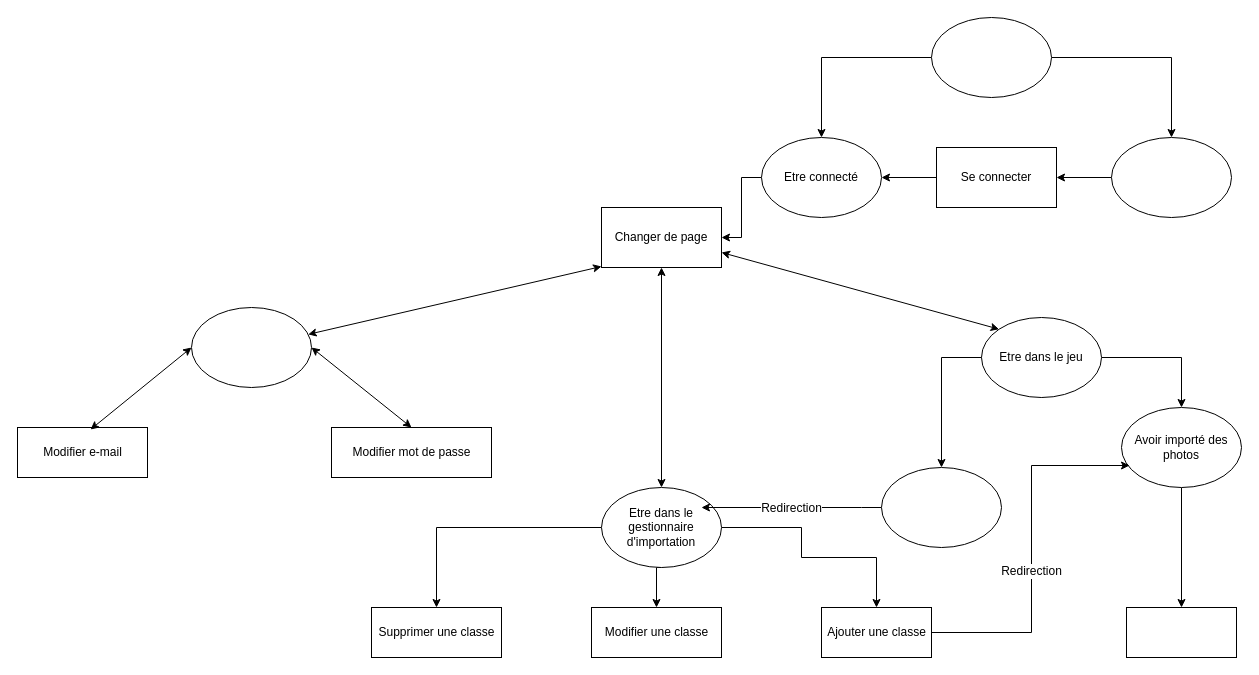
The diagram is 1259 pixels wide and 675 high, and some of its shapes have lost their labels. Here are the shapes that lost their labels. From the top down, the centre of each, then its label:
At pixel 991 57: "Etre sur l'accueil".
At pixel 1171 177: "Etre déconnecté".
At pixel 251 347: "Etre dans le gestionnaire de compte".
At pixel 941 507: "N'avoir rien importé".
At pixel 1181 632: "Jouer".
